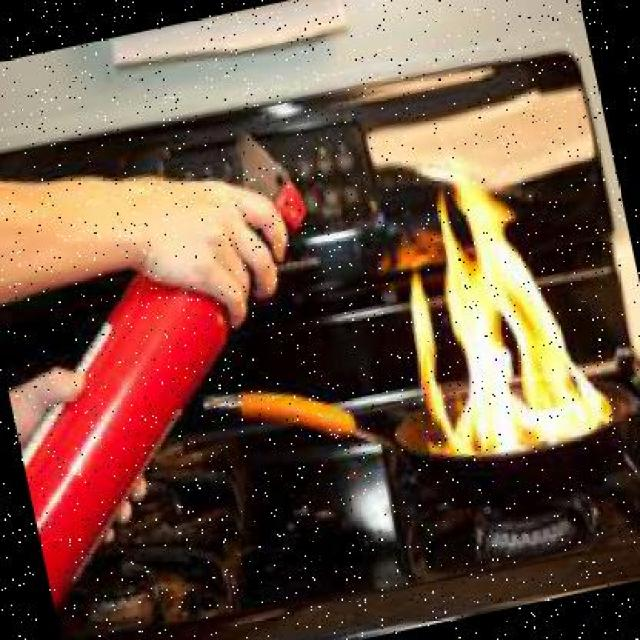fire: (368, 160, 630, 465)
